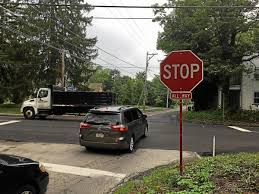stop: (158, 49, 205, 91)
